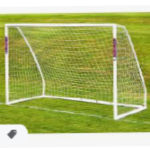goals: (1, 21, 150, 121)
